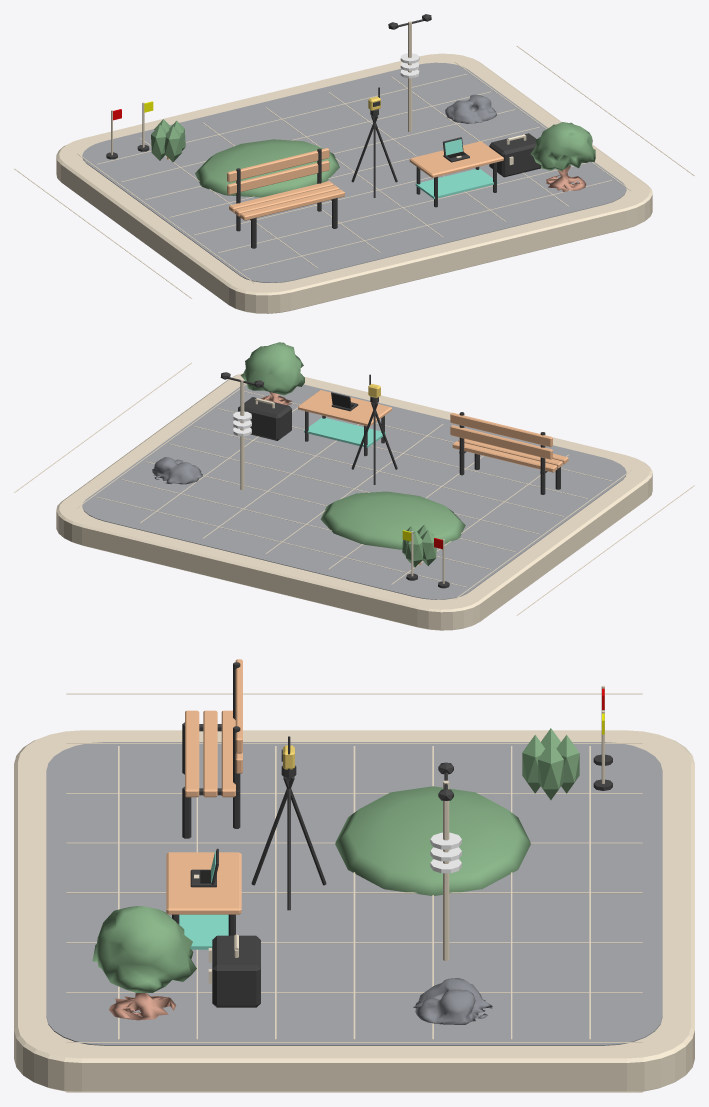
The model's file is room.fbx.
The picture shows the model from 3 angles, top to bottom: view 1: azimuth 30°, elevation 25°; view 2: azimuth 150°, elevation 25°; view 3: azimuth 270°, elevation 25°; orthographic projection. The views are drawn at different scales.
Visible parts, largest first — view 1: COM-02 Floor Surface, COM-01 Rounded Base Direct, Low terrain, 둥근 수관 나무, Worktop, Case, Lower shelf, Back slat.001, Back slat, 둥근 강돌 무리, Seat slat, Seat slat.001 (+3 smaller); view 2: COM-02 Floor Surface, COM-01 Rounded Base Direct, Low terrain, 둥근 수관 나무, Worktop, Case, Lower shelf, Back slat, Back slat.001, 둥근 강돌 무리, Seat slat.002, Seat slat.001 (+3 smaller); view 3: COM-02 Floor Surface, COM-01 Rounded Base Direct, Low terrain, 둥근 수관 나무, Worktop, Case, 둥근 강돌 무리, Lower shelf, Seat slat, Seat slat.001, Grout X.008, Grout X (+10 smaller).
Boxes of the visible parts, x1,y1,x2,y2 form: COM-02 Floor Surface: (82,62,626,282); COM-01 Rounded Base Direct: (56,53,652,313); Low terrain: (195,139,339,197); 둥근 수관 나무: (530,122,595,191); Worktop: (409,141,503,177); Case: (489,133,541,177); Lower shelf: (415,168,497,198); Back slat.001: (227,148,329,182); Back slat: (227,160,329,194); 둥근 강돌 무리: (445,94,496,123); Seat slat: (240,189,344,220); Seat slat.001: (234,185,339,216); COM-02 Floor Surface: (82,383,626,599); COM-01 Rounded Base Direct: (56,373,652,630); Low terrain: (320,491,465,549); 둥근 수관 나무: (240,342,304,405); Worktop: (298,390,391,426); Case: (238,397,291,440); Lower shelf: (304,417,385,447); Back slat: (450,425,552,459); Back slat.001: (450,412,552,447); 둥근 강돌 무리: (152,457,202,484); Seat slat.002: (452,441,557,472); Seat slat.001: (458,438,562,468); COM-02 Floor Surface: (46,742,662,1045); COM-01 Rounded Base Direct: (14,730,694,1091); Low terrain: (335,786,530,895); 둥근 수관 나무: (92,906,196,1020); Worktop: (166,852,241,914); Case: (212,935,260,1007); 둥근 강돌 무리: (413,978,492,1024); Lower shelf: (179,914,228,949); Seat slat: (185,710,199,797); Seat slat.001: (203,710,217,797); Grout X.008: (66,1091,642,1092); Grout X: (66,693,642,694).
Bounding box in the file's own units: 721 × 185 × 520.
